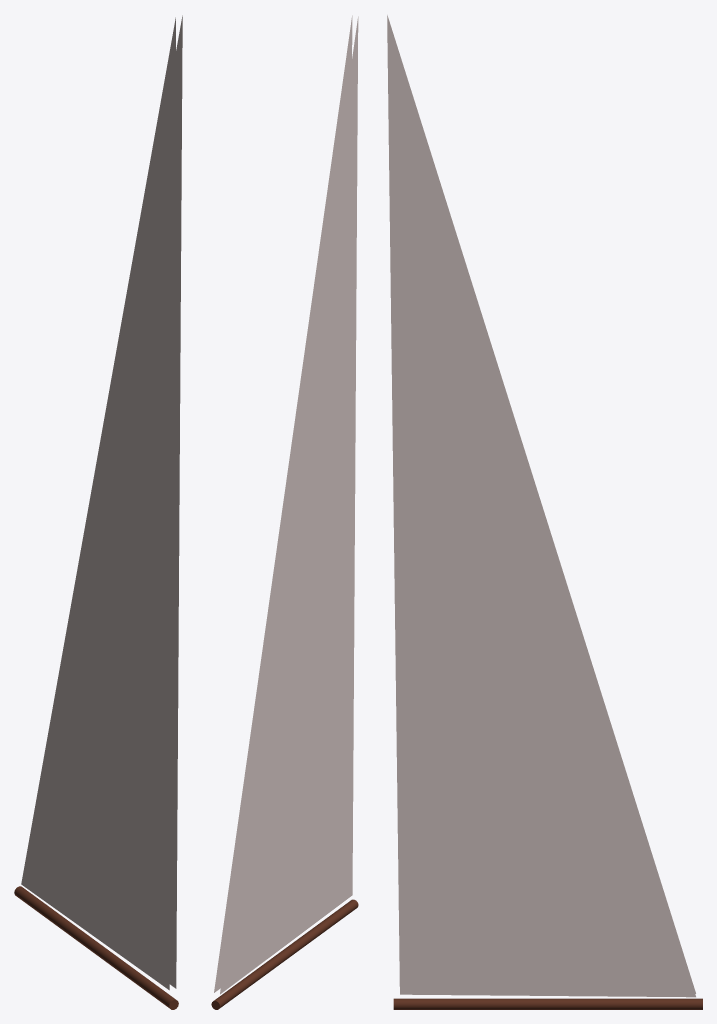
Rendered from sail.FBX.
3 renders of one model, left to right at view 1: azimuth 30°, elevation 25°; view 2: azimuth 150°, elevation 25°; view 3: azimuth 270°, elevation 25°, orthographic. The views are drawn at different scales.
Visible parts, largest first — view 1: Sail Weight; view 2: Sail Weight; view 3: Sail Weight.
Part boxes in pixels (x1=…): Sail Weight: x1=14, y1=15, x2=182, y2=1009; Sail Weight: x1=211, y1=15, x2=358, y2=1009; Sail Weight: x1=387, y1=15, x2=702, y2=1009.
Bounding box in the file's own units: 0.8415 × 78.14 × 22.47.
Materials: 2 (2 with a texture image).
